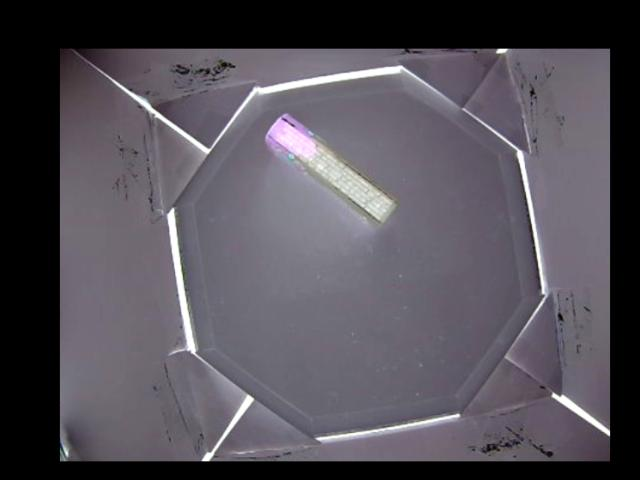Bottle: (260, 112, 396, 228)
